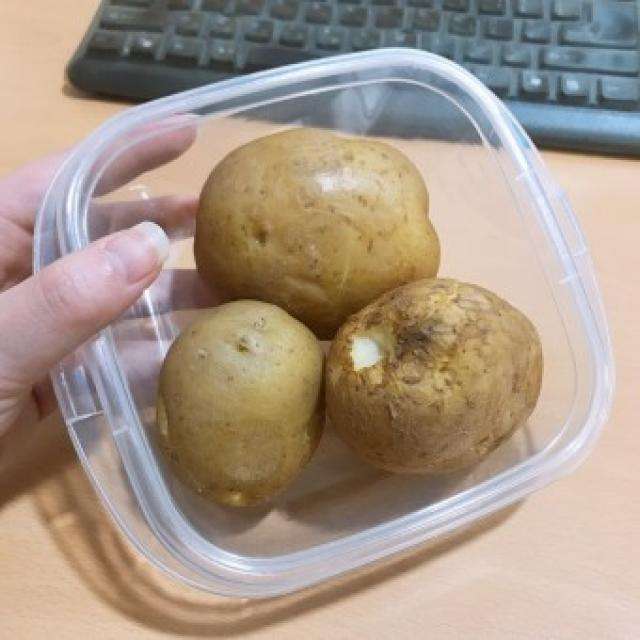potato: (188, 114, 444, 338), (317, 269, 547, 480), (160, 296, 328, 512)
